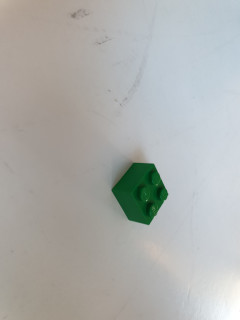2x2 green: (111, 162, 169, 226)
